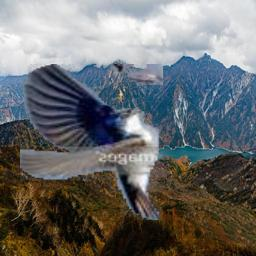Swallow: (20, 64, 163, 220)
